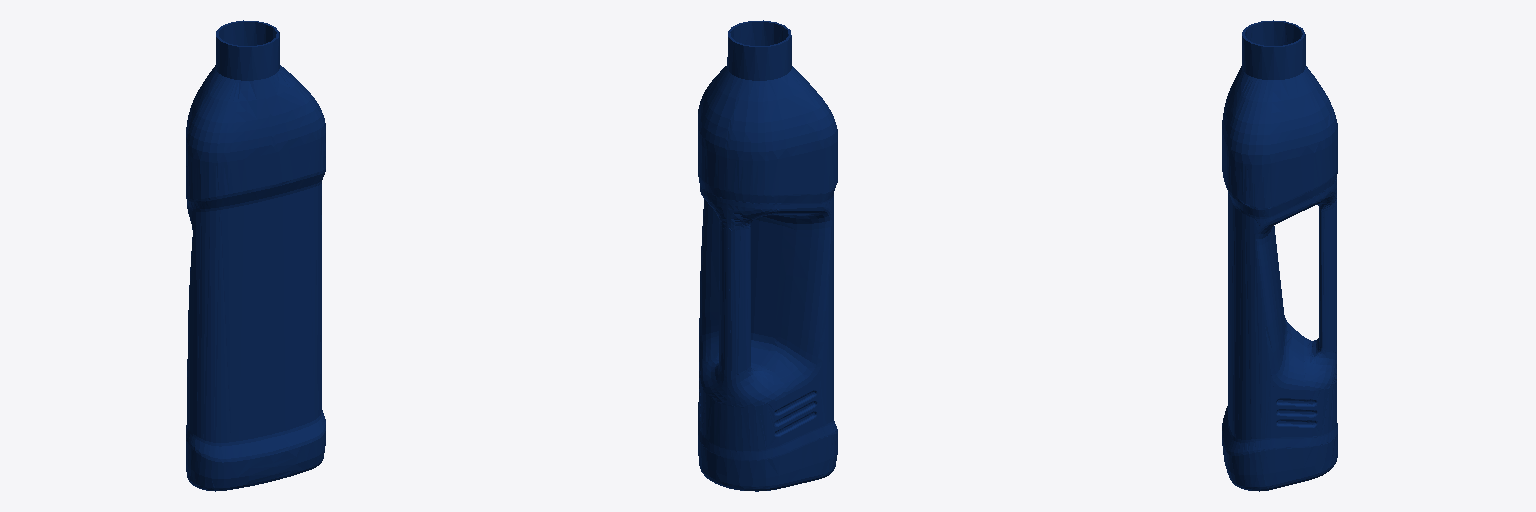
robot.urdf — Part3.SLDPRT:
<?xml version="1.0" encoding="utf-8"?>
<!-- This URDF was automatically created by SolidWorks to URDF Exporter! Originally created by [author] ([email redacted]) 
     Commit Version: 1.5.1-0-g916b5db  Build Version: 1.5.7152.31018
     For more information, please see http://wiki.ros.org/sw_urdf_exporter -->
<robot
  name="Part3.SLDPRT">
  <link
    name="Part3.SLDPRT">
    <inertial>
      <origin
        xyz="-6.2537E-05 -0.12784 0.024676"
        rpy="0 0 0" />
      <mass
        value="1.026721" />
      <inertia
        ixx="0.0001815"
        ixy="1.1003E-07"
        ixz="9.65590000000001E-09"
        iyy="2.4711E-05"
        iyz="4.0532000000001E-07"
        izz="0.00018575" />
    </inertial>
    <visual>
      <origin
        xyz="0 0 0"
        rpy="0 0 0" />
      <geometry>
        <mesh
          filename="models/meshes/bottle/Part3.SLDPRT.STL" scale="2 2 2" />
      </geometry>
      <material
        name="bottle">
        <color
          rgba="0.09216 0.21961 0.43333 0.7" />
        <texture
          filename="bottle/textures/" />
      </material>
    </visual>
    <collision>
      <origin
        xyz="0 0 0"
        rpy="0 0 0" />
      <geometry>
        <mesh
          filename="models/meshes/bottle/Part3.SLDPRT.STL" scale="2 2 2"  />
      </geometry>
    </collision>
  </link>
</robot>

--- Facts derived from the render (not from the file) ---
The picture shows the robot from 3 angles, left to right: view 1: azimuth 30°, elevation 25°; view 2: azimuth 150°, elevation 25°; view 3: azimuth 270°, elevation 25°; orthographic projection.
Model Part3.SLDPRT with 1 links and 0 joints (none), rooted at Part3.SLDPRT, posed all joints at 0.
Links seen in each view (by area): view 1: Part3.SLDPRT; view 2: Part3.SLDPRT; view 3: Part3.SLDPRT.
Link boxes in pixels (box(x1,y1,x2,y2)): Part3.SLDPRT: box(186, 20, 325, 491); Part3.SLDPRT: box(698, 20, 837, 491); Part3.SLDPRT: box(1222, 20, 1337, 491).
Bounding box of the posed robot: 0.1658 × 0.128 × 0.52 m (x, y, z).
1 mesh visuals loaded from 1 distinct referenced files (1 binary STL).